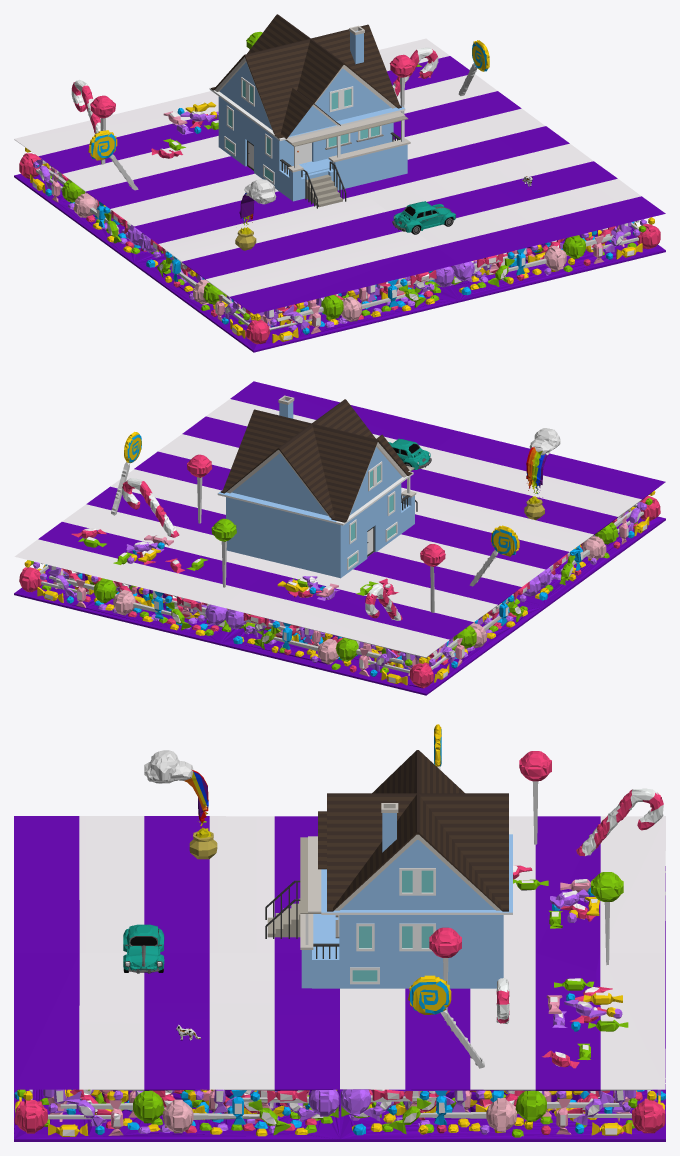
3 views of the same model, one above another, from view 1: azimuth 30°, elevation 25°; view 2: azimuth 150°, elevation 25°; view 3: azimuth 270°, elevation 25° (orthographic). The views are drawn at different scales.
Parts seen in each view (by area): view 1: TERRAIN_CANDY, Cube.1594, VEHICLES_VOLKSWAGEN, OBJRANDOM_RAINBOW; view 2: TERRAIN_CANDY, Cube.1594, OBJRANDOM_RAINBOW, VEHICLES_VOLKSWAGEN; view 3: TERRAIN_CANDY, Cube.1594, OBJRANDOM_RAINBOW, VEHICLES_VOLKSWAGEN.
Boxes of the visible parts, bbox=[...] form: TERRAIN_CANDY: bbox=[14, 31, 665, 352]; Cube.1594: bbox=[209, 14, 410, 208]; VEHICLES_VOLKSWAGEN: bbox=[392, 201, 456, 234]; OBJRANDOM_RAINBOW: bbox=[235, 179, 276, 250]; TERRAIN_CANDY: bbox=[14, 381, 665, 695]; Cube.1594: bbox=[217, 395, 417, 578]; OBJRANDOM_RAINBOW: bbox=[524, 428, 560, 520]; VEHICLES_VOLKSWAGEN: bbox=[388, 438, 431, 469]; TERRAIN_CANDY: bbox=[14, 724, 665, 1141]; Cube.1594: bbox=[265, 750, 512, 988]; OBJRANDOM_RAINBOW: bbox=[144, 750, 217, 859]; VEHICLES_VOLKSWAGEN: bbox=[123, 924, 164, 973].
Bounding box in the file's own units: 4059 × 1600 × 4000.
Materials: 34 (2 with a texture image).
